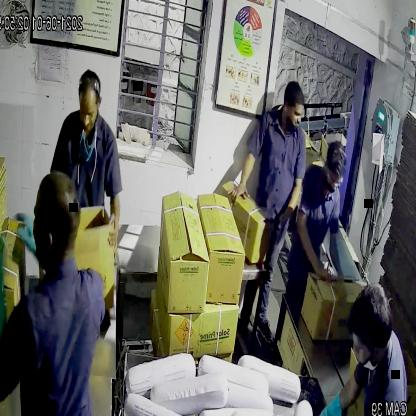goggles: (320, 169, 346, 193)
no_goggles: (281, 101, 305, 125), (77, 102, 101, 124)
